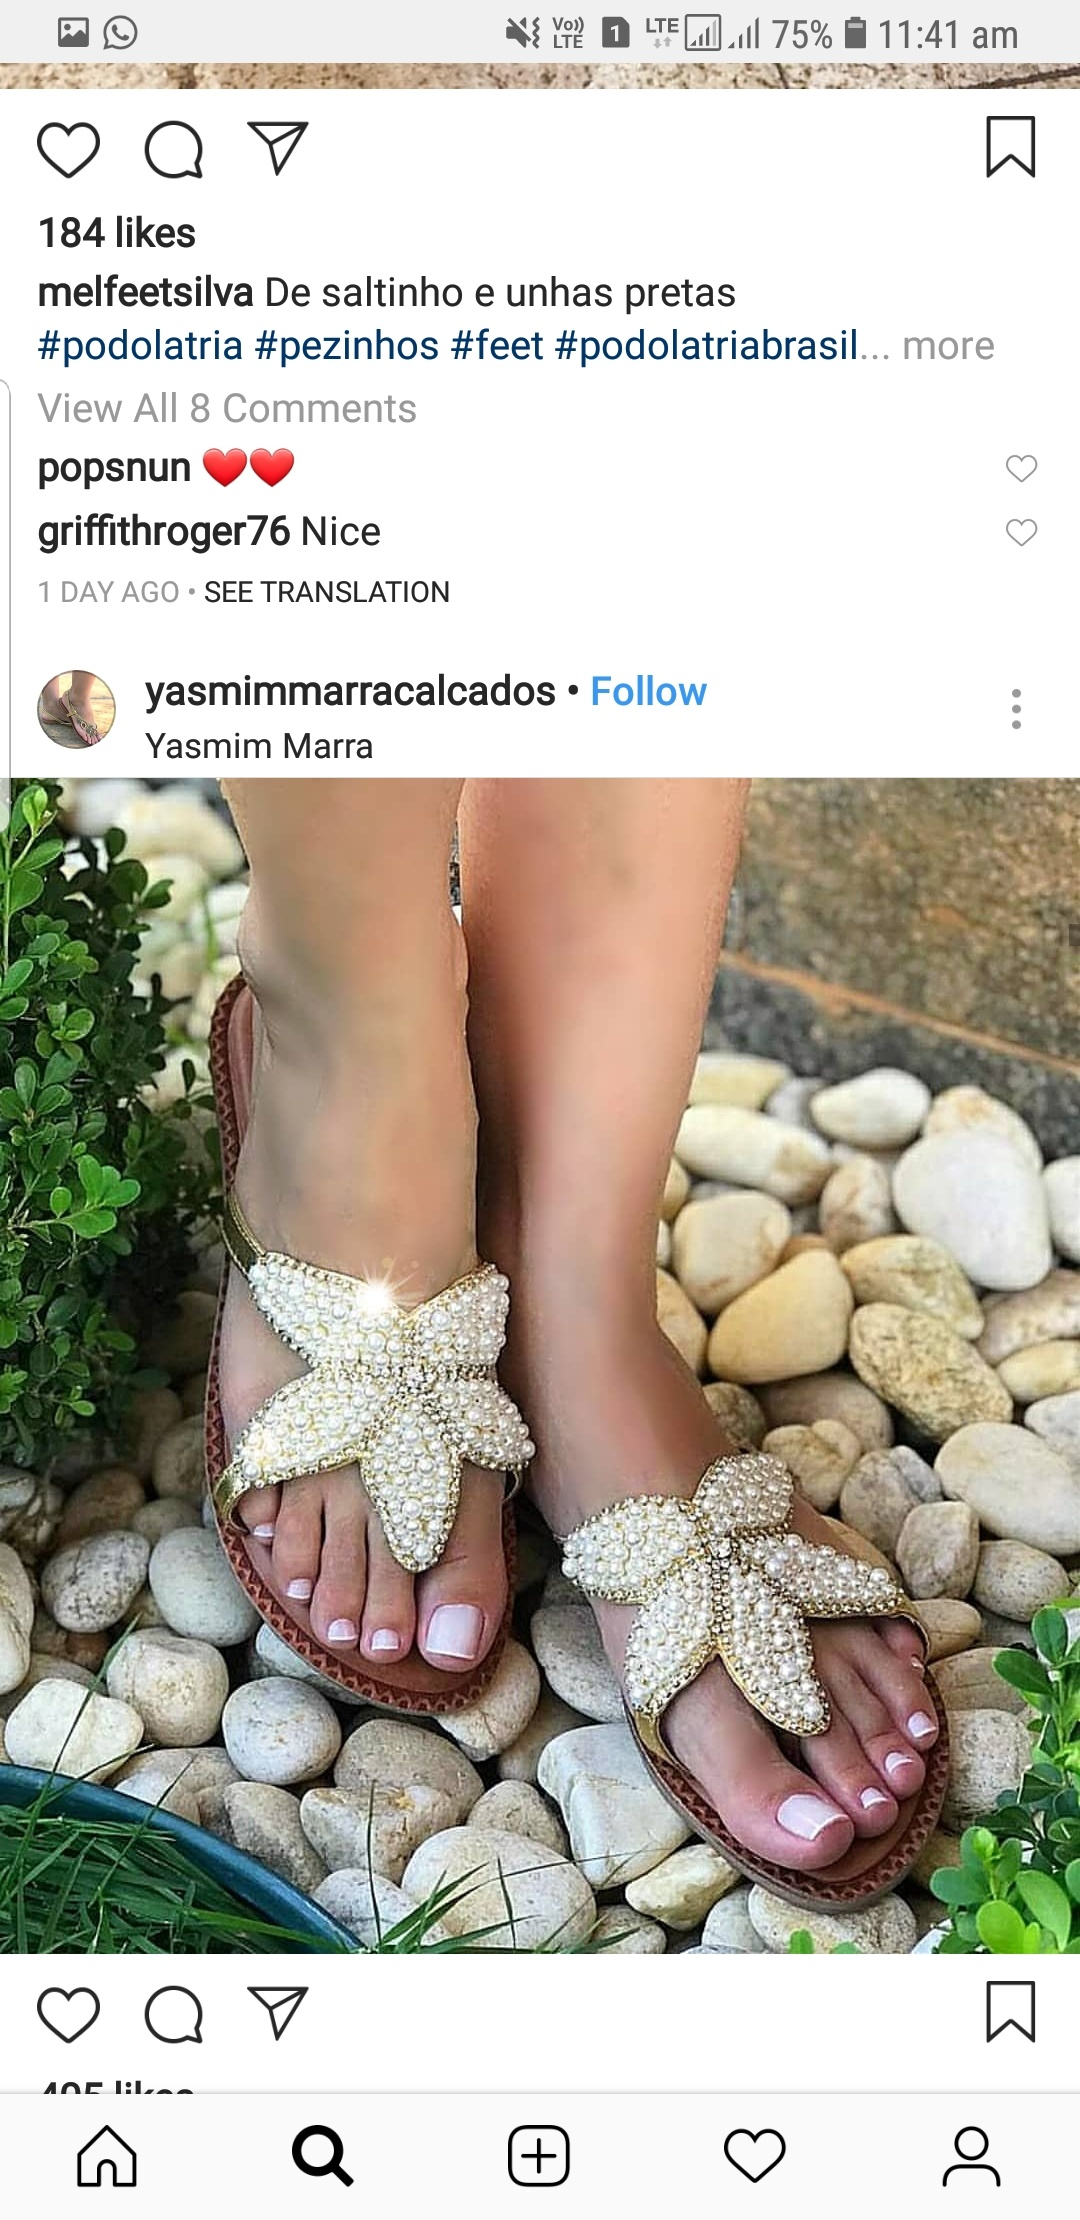feet: (437, 1215, 953, 1863), (137, 902, 515, 1700)
